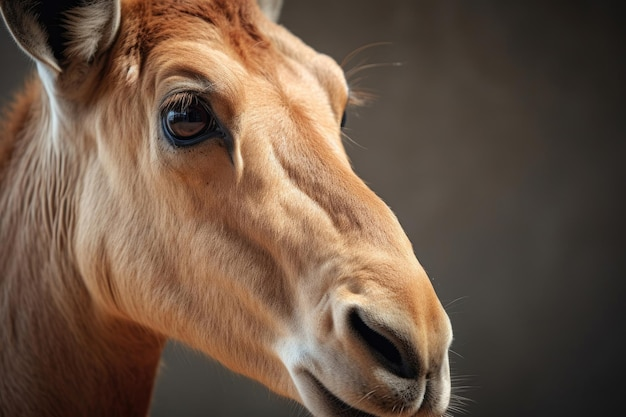saiga: (18, 1, 351, 393)
